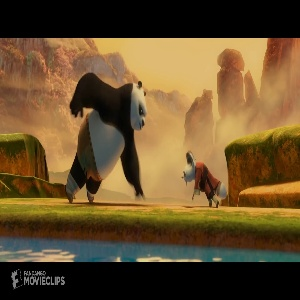po: (62, 71, 152, 208)
shifu: (178, 149, 229, 208)
